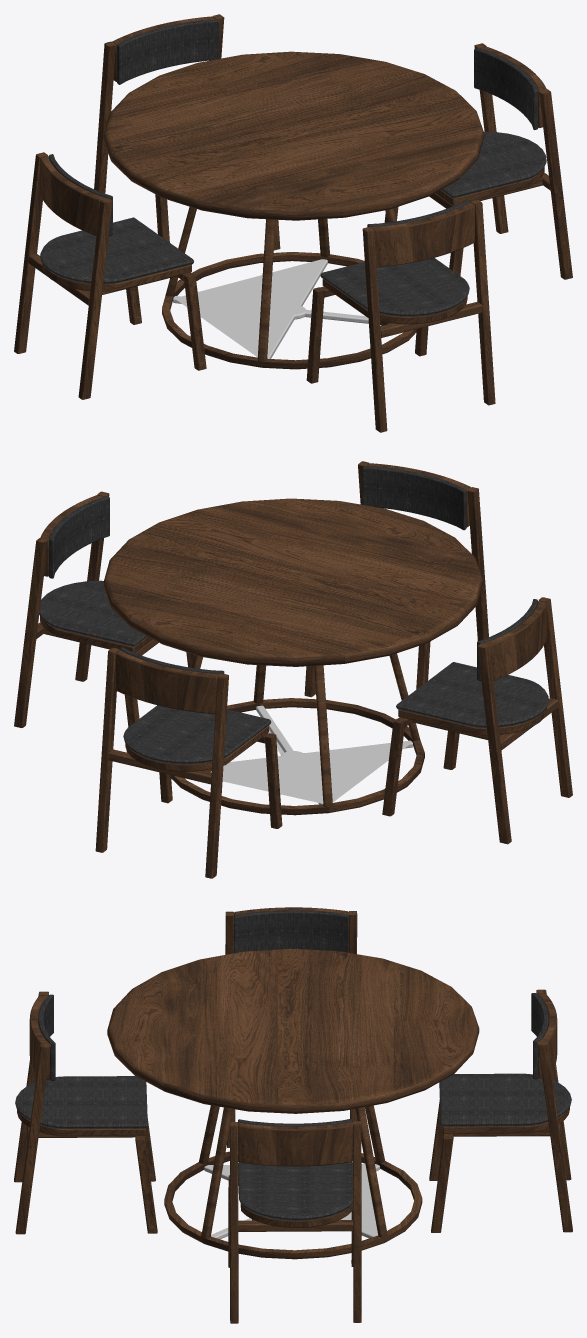
The model's file is Comedor.fbx.
3 renders of one model, top to bottom at view 1: azimuth 30°, elevation 25°; view 2: azimuth 150°, elevation 25°; view 3: azimuth 270°, elevation 25°, orthographic. The views are drawn at different scales.
Visible parts, largest first — view 1: Group6, Group4, Group10, Group15, Group11, Group16, Group23, Group12, Group3, Group20, Group21, Group18 (+12 smaller); view 2: Group6, Group4, Group10, Group25, Group11, Group26, Group13, Group22, Group3, Group20, Group21, Group18 (+12 smaller); view 3: Group6, Group25, Group15, Group20, Group17, Group8, Group3, Group21, Group16, Group26, Componente_1_1, Componente_1_4 (+15 smaller).
Boxes of the visible parts, x1,y1,x2,y2 form: Group6: (103, 51, 484, 220); Group4: (173, 259, 368, 358); Group10: (40, 217, 193, 284); Group15: (320, 258, 469, 316); Group11: (14, 152, 112, 399); Group16: (362, 199, 495, 432); Group23: (117, 19, 219, 84); Group12: (371, 202, 474, 267); Group3: (162, 252, 416, 369); Group20: (441, 131, 546, 198); Group21: (474, 43, 572, 279); Group18: (474, 48, 538, 129); Group6: (103, 498, 482, 666); Group4: (210, 705, 412, 804); Group10: (396, 662, 548, 727); Group25: (123, 705, 271, 764); Group11: (477, 597, 572, 844); Group26: (95, 647, 228, 878); Group13: (362, 466, 466, 530); Group22: (115, 650, 220, 714); Group3: (171, 698, 424, 815); Group20: (39, 580, 147, 646); Group21: (14, 491, 109, 727); Group18: (49, 496, 109, 578); Group6: (107, 948, 479, 1113); Group25: (439, 1073, 571, 1126); Group15: (15, 1076, 147, 1128); Group20: (238, 1162, 352, 1220); Group17: (238, 1121, 352, 1166); Group8: (234, 910, 348, 953); Group3: (164, 1151, 422, 1259); Group21: (229, 1121, 361, 1323); Group16: (14, 991, 50, 1234); Group26: (536, 989, 572, 1232); Componente_1_1: (201, 1107, 232, 1238); Componente_1_4: (355, 1107, 387, 1237).
Size of the model in its own units: 2.12 by 0.785 by 2.12.
